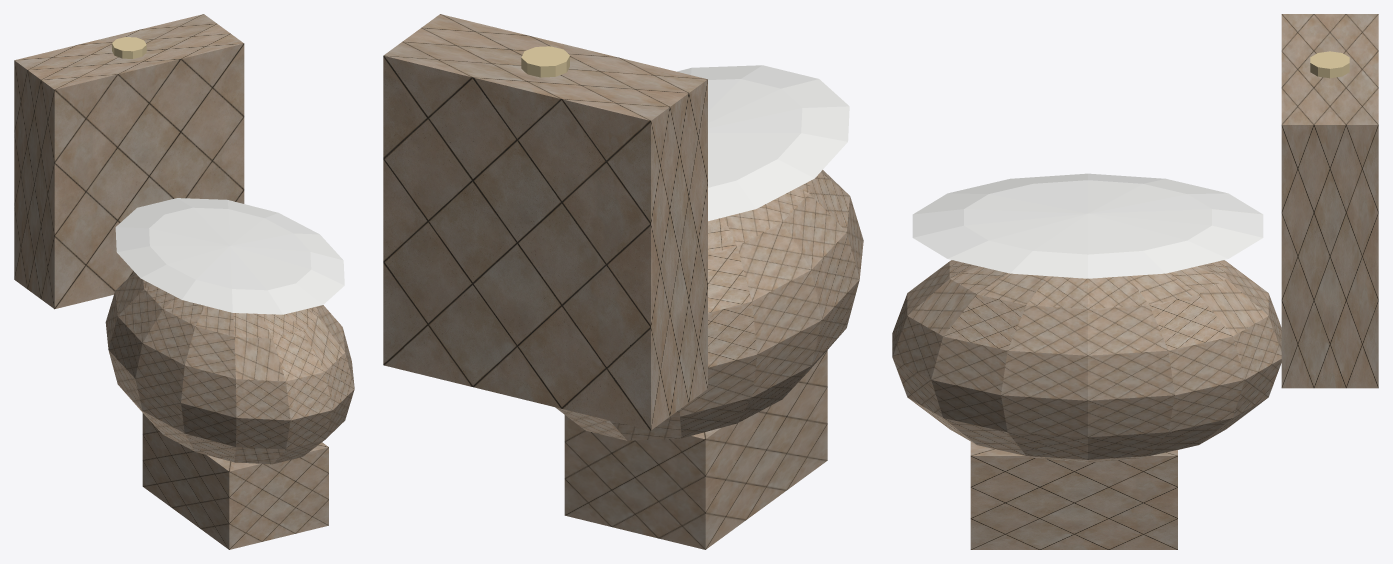
Rendered from vaso_sanitario.glb.
The picture shows the model from 3 angles, left to right: view 1: azimuth 30°, elevation 25°; view 2: azimuth 150°, elevation 25°; view 3: azimuth 270°, elevation 25°; orthographic projection. The views are drawn at different scales.
Parts seen in each view (by area): view 1: vaso_sanitario; view 2: vaso_sanitario; view 3: vaso_sanitario.
Part boxes in pixels (<box>): vaso_sanitario: <box>14,14,354,549</box>; vaso_sanitario: <box>383,14,863,549</box>; vaso_sanitario: <box>892,14,1378,549</box>.
Size of the model in its own units: 0.38 by 0.735 by 0.7028.
3 materials, 1 textured.
